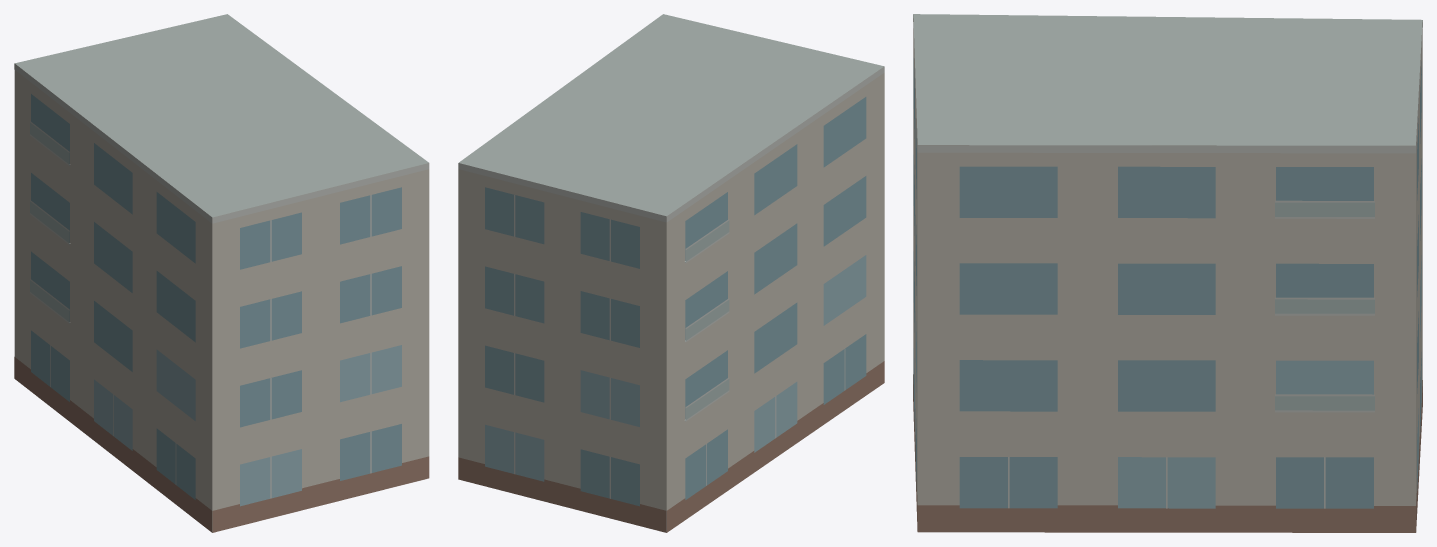
The model's file is survey-upis-32632211.glb.
3 views of the same model, side by side, from view 1: azimuth 30°, elevation 25°; view 2: azimuth 150°, elevation 25°; view 3: azimuth 270°, elevation 25° (orthographic). The views are drawn at different scales.
Parts seen in each view (by area): view 1: survey-upis-32632211.tmp; view 2: survey-upis-32632211.tmp; view 3: survey-upis-32632211.tmp.
Boxes of the visible parts, box(x1,y1,x2,y2) form: survey-upis-32632211.tmp: box(14, 14, 429, 532); survey-upis-32632211.tmp: box(458, 14, 884, 532); survey-upis-32632211.tmp: box(913, 14, 1422, 532).
Size of the model in its own units: 9.09 by 12.4 by 14.8.
